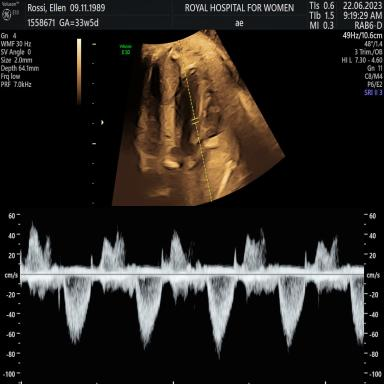Ultrasound-Waves: (27, 213, 363, 384)
